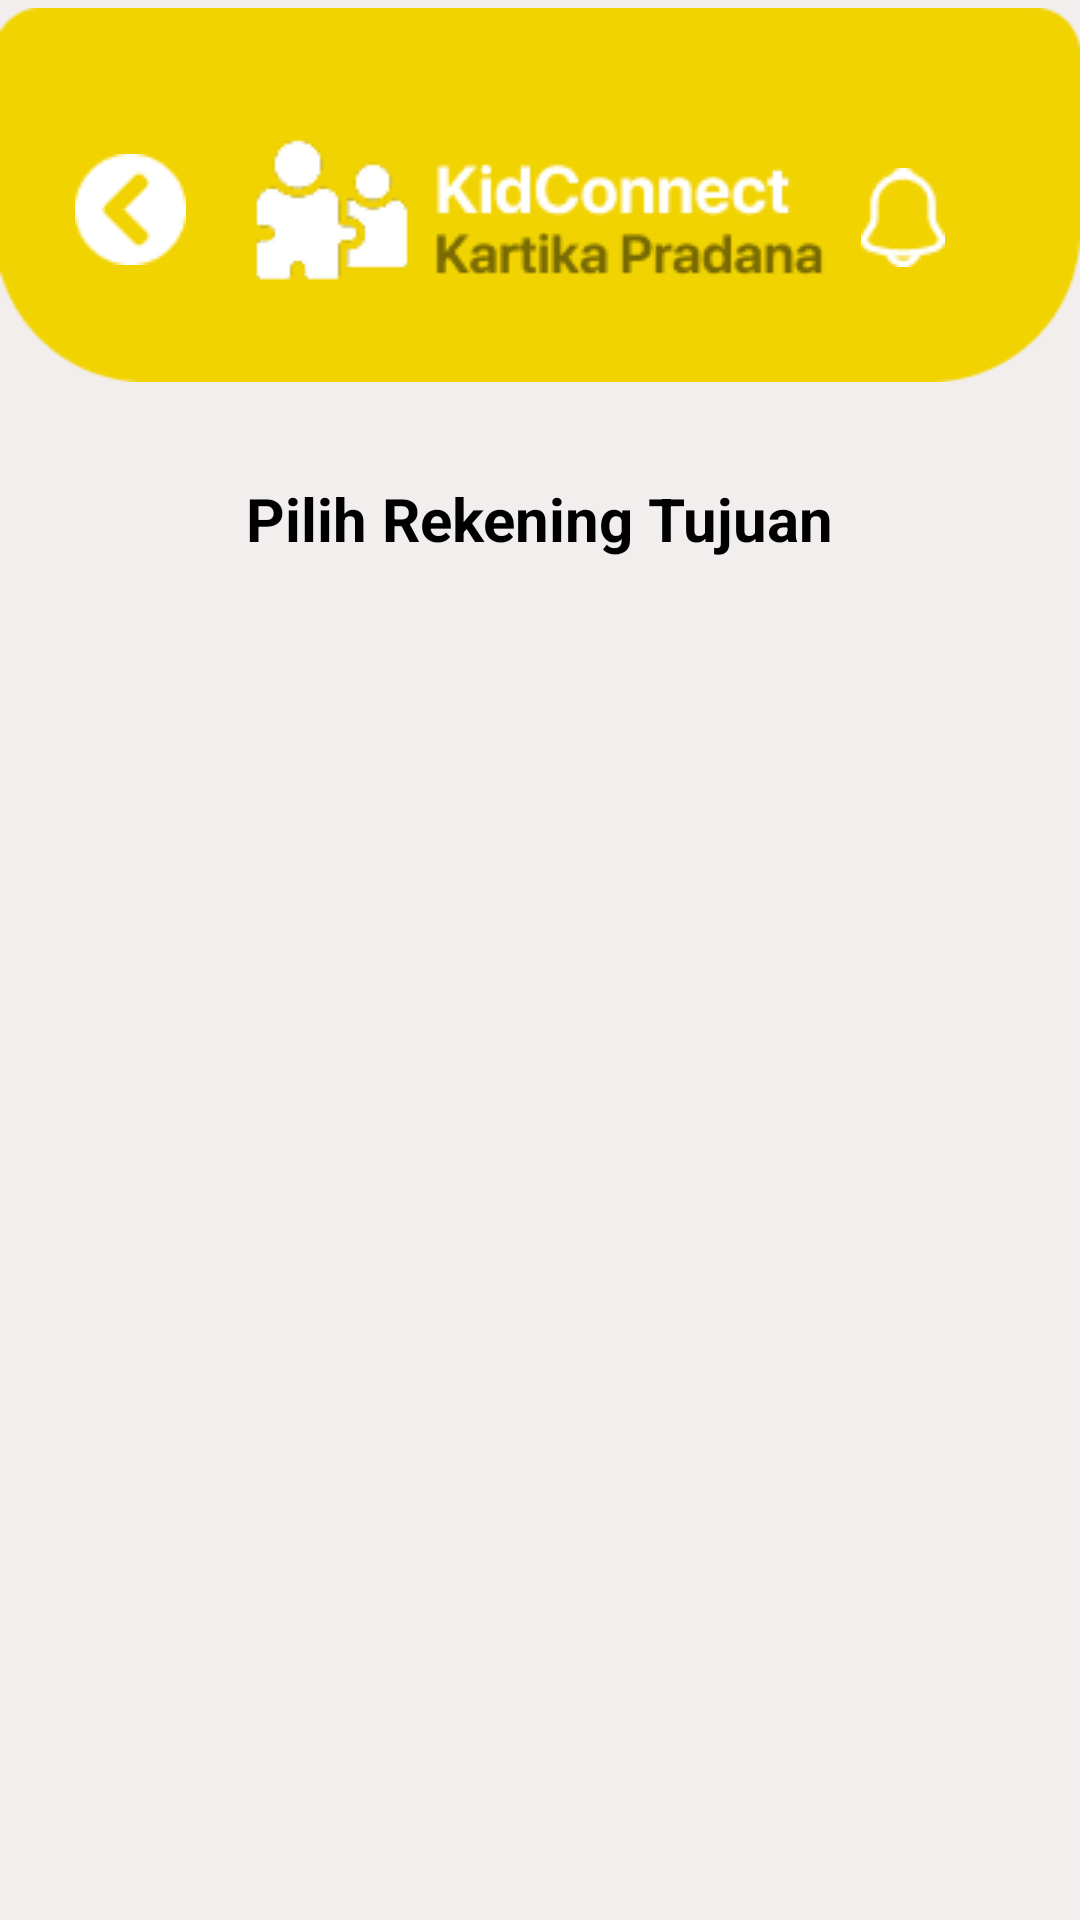

Named icons in this screenshot (1080 x 1920) and their centers, point (x, y):
back: point (130, 209)
notif: point (903, 217)
